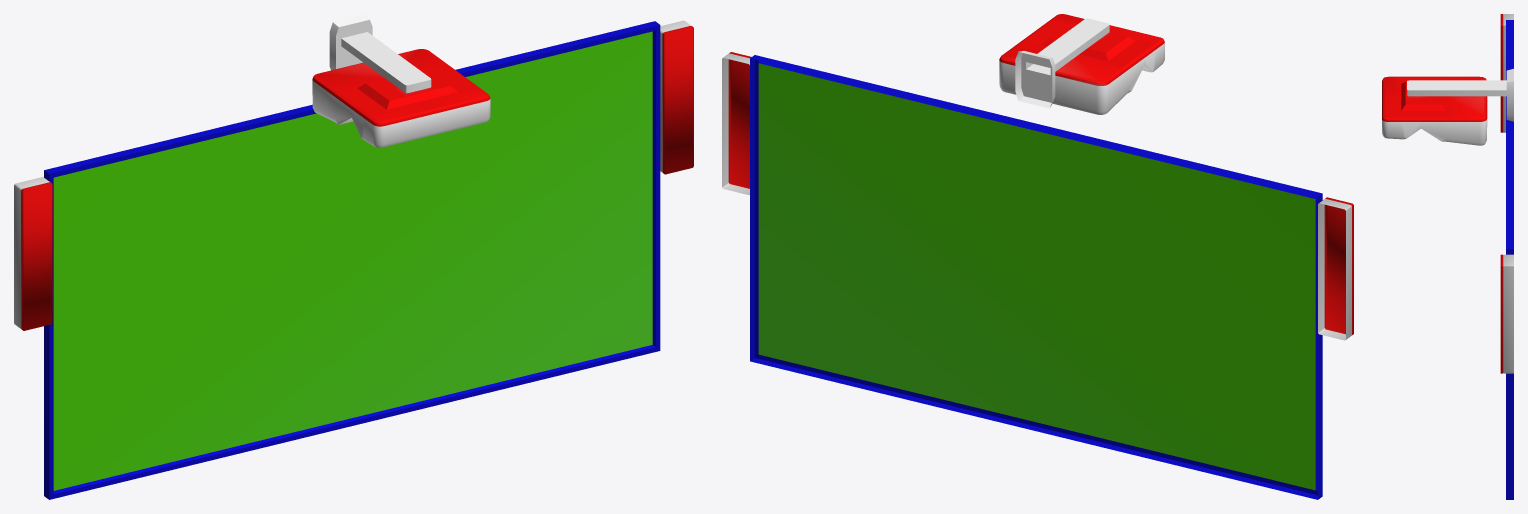
File: video_projector_T.fbx
3 renders of one model, left to right at view 1: azimuth 30°, elevation 25°; view 2: azimuth 150°, elevation 25°; view 3: azimuth 270°, elevation 25°, orthographic. The views are drawn at different scales.
Parts seen in each view (by area): view 1: Board_T, VideoprojectorT; view 2: Board_T, VideoprojectorT; view 3: VideoprojectorT, Board_T.
Boxes of the visible parts, left/top/right/bottom form: Board_T: left=14, top=20, right=693, bottom=499; VideoprojectorT: left=312, top=14, right=490, bottom=147; Board_T: left=722, top=52, right=1353, bottom=499; VideoprojectorT: left=999, top=14, right=1164, bottom=114; VideoprojectorT: left=1382, top=68, right=1513, bottom=145; Board_T: left=1500, top=14, right=1513, bottom=499.
Bounding box in the file's own units: 224 × 129 × 49.58.
